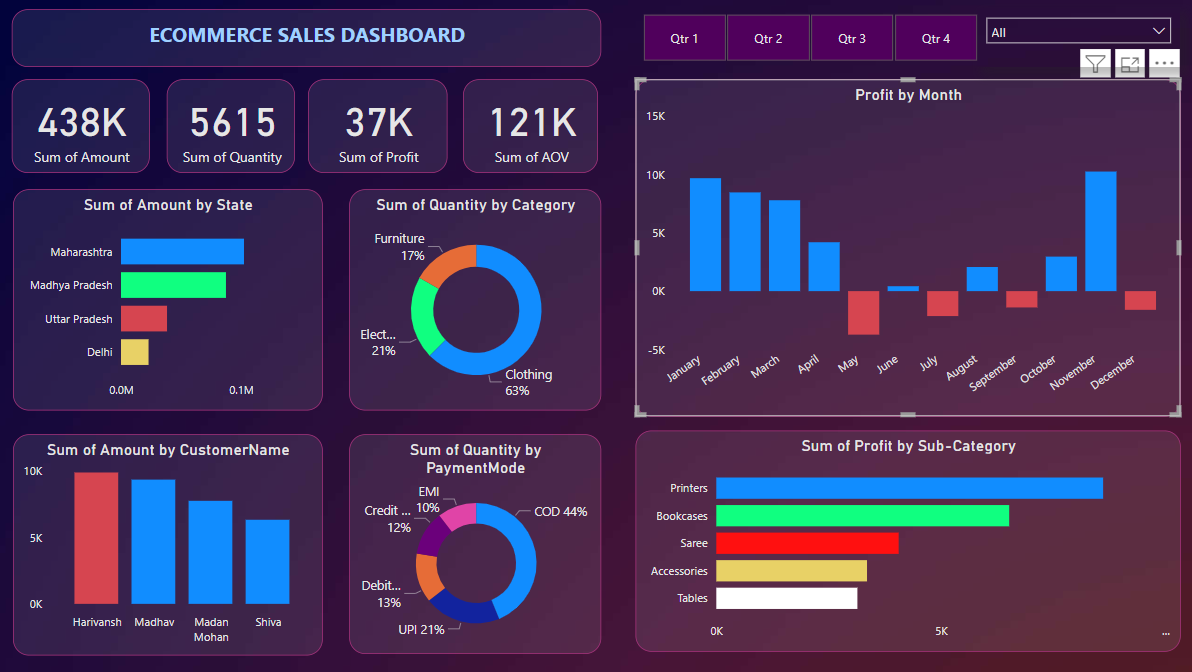

Layout of this report page (visuals, bound fields, positions):
{"tool":"powerbi","page":{"name":"Page 1","canvas":[1280,720],"ordinal":0},"visuals":[{"type":"textbox","box":[14.3,11.4,628.6,61.4],"z":0},{"type":"columnChart","title":"Profit by Month","fields":{"Category":["Orders.Order Date.Variation.Date Hierarchy.Month"],"Y":["Details.Profit"]},"box":[680,87.1,581.4,360],"z":1},{"type":"barChart","fields":{"Category":["Details.Sub-Category"],"Y":["Details.Profit"]},"box":[680,461.4,581.4,235.7],"z":2},{"type":"donutChart","fields":{"Category":["Details.Category"],"Y":["Details.Quantity"]},"box":[374.3,204.3,268.6,242.9],"z":3},{"type":"donutChart","fields":{"Category":["Details.PaymentMode"],"Y":["Details.Quantity"]},"box":[374.3,461.4,268.6,238.6],"z":4},{"type":"card","fields":{"Values":["Details.Amount"]},"box":[14.3,87.1,147.1,100],"z":5},{"type":"card","fields":{"Values":["Details.Quantity"]},"box":[180,87.1,137.1,100],"z":6},{"type":"card","fields":{"Values":["Details.Profit"]},"box":[330,87.1,148.6,100],"z":7},{"type":"card","fields":{"Values":["Details.AOV"]},"box":[495.7,87.1,144.3,100],"z":8},{"type":"barChart","fields":{"Category":["Orders.State"],"Y":["Details.Amount"]},"box":[15.7,204.3,330,235.7],"z":9},{"type":"columnChart","fields":{"Category":["Orders.CustomerName"],"Y":["Details.Amount"]},"box":[15.7,465.7,330,235.7],"z":10},{"type":"slicer","fields":{"Values":["Orders.Order Date.Variation.Date Hierarchy.Quarter"]},"box":[662.9,10,405.7,62.9],"z":11},{"type":"slicer","fields":{"Values":["Orders.State"]},"box":[1044.3,10,217.1,62.9],"z":12}]}

Visuals, with their boxes in screenshot pixels (x1, y1, x2, y2), scaled from the page's 1280x720 canvas onto the 1192x672 screenshot:
textbox: bbox(13, 11, 599, 68)
"Profit by Month" columnChart: bbox(633, 81, 1175, 417)
barChart - Details.Sub-Category x Details.Profit: bbox(633, 431, 1175, 651)
donutChart - Details.Category x Details.Quantity: bbox(349, 191, 599, 417)
donutChart - Details.PaymentMode x Details.Quantity: bbox(349, 431, 599, 653)
card - Details.Amount: bbox(13, 81, 150, 175)
card - Details.Quantity: bbox(168, 81, 295, 175)
card - Details.Profit: bbox(307, 81, 446, 175)
card - Details.AOV: bbox(462, 81, 596, 175)
barChart - Orders.State x Details.Amount: bbox(15, 191, 322, 411)
columnChart - Orders.CustomerName x Details.Amount: bbox(15, 435, 322, 655)
slicer - Orders.Order Date.Variation.Date Hierarchy.Quarter: bbox(617, 9, 995, 68)
slicer - Orders.State: bbox(973, 9, 1175, 68)
